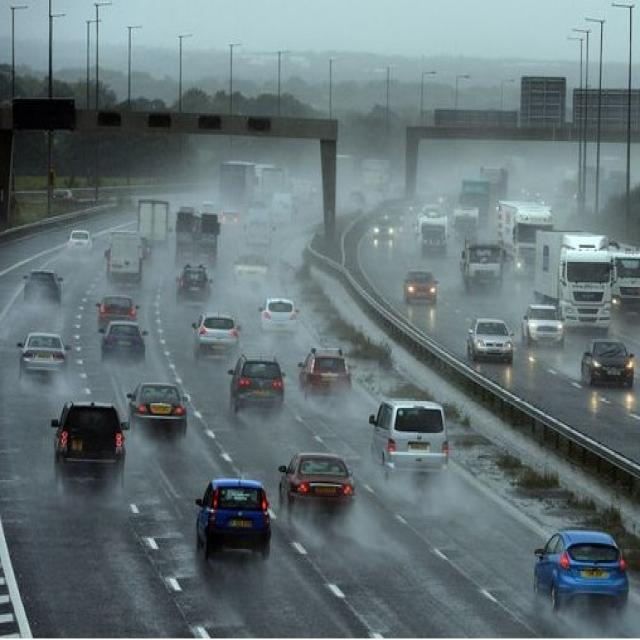car: (533, 526, 629, 622), (369, 396, 450, 486), (51, 397, 125, 491), (195, 477, 272, 562), (277, 450, 357, 519), (126, 378, 189, 441), (229, 352, 286, 418), (298, 346, 354, 403), (581, 335, 636, 393), (190, 308, 241, 362), (18, 328, 71, 379), (518, 301, 567, 350), (468, 314, 514, 366), (101, 320, 148, 364), (106, 230, 144, 282), (96, 291, 141, 329), (258, 295, 298, 335), (174, 263, 214, 303), (22, 268, 65, 304), (402, 268, 440, 306), (68, 227, 95, 259)
truck: (536, 230, 615, 332), (496, 198, 553, 283), (459, 236, 505, 300), (607, 241, 640, 316)
